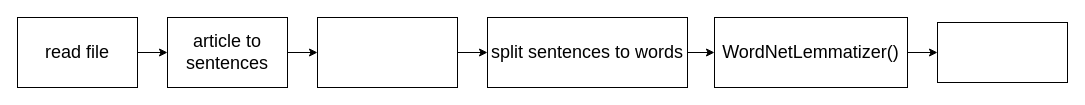
This 1085x105 diagram has some shape labels left out. Each missing label, with the box of its shape:
Stop Word: (316, 16, 458, 88)
vocabulary list: (936, 22, 1068, 82)
